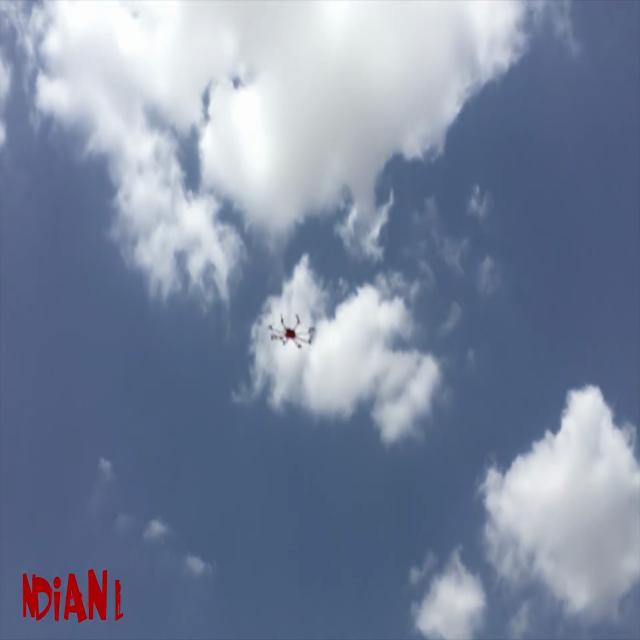drone: (266, 303, 319, 368)
